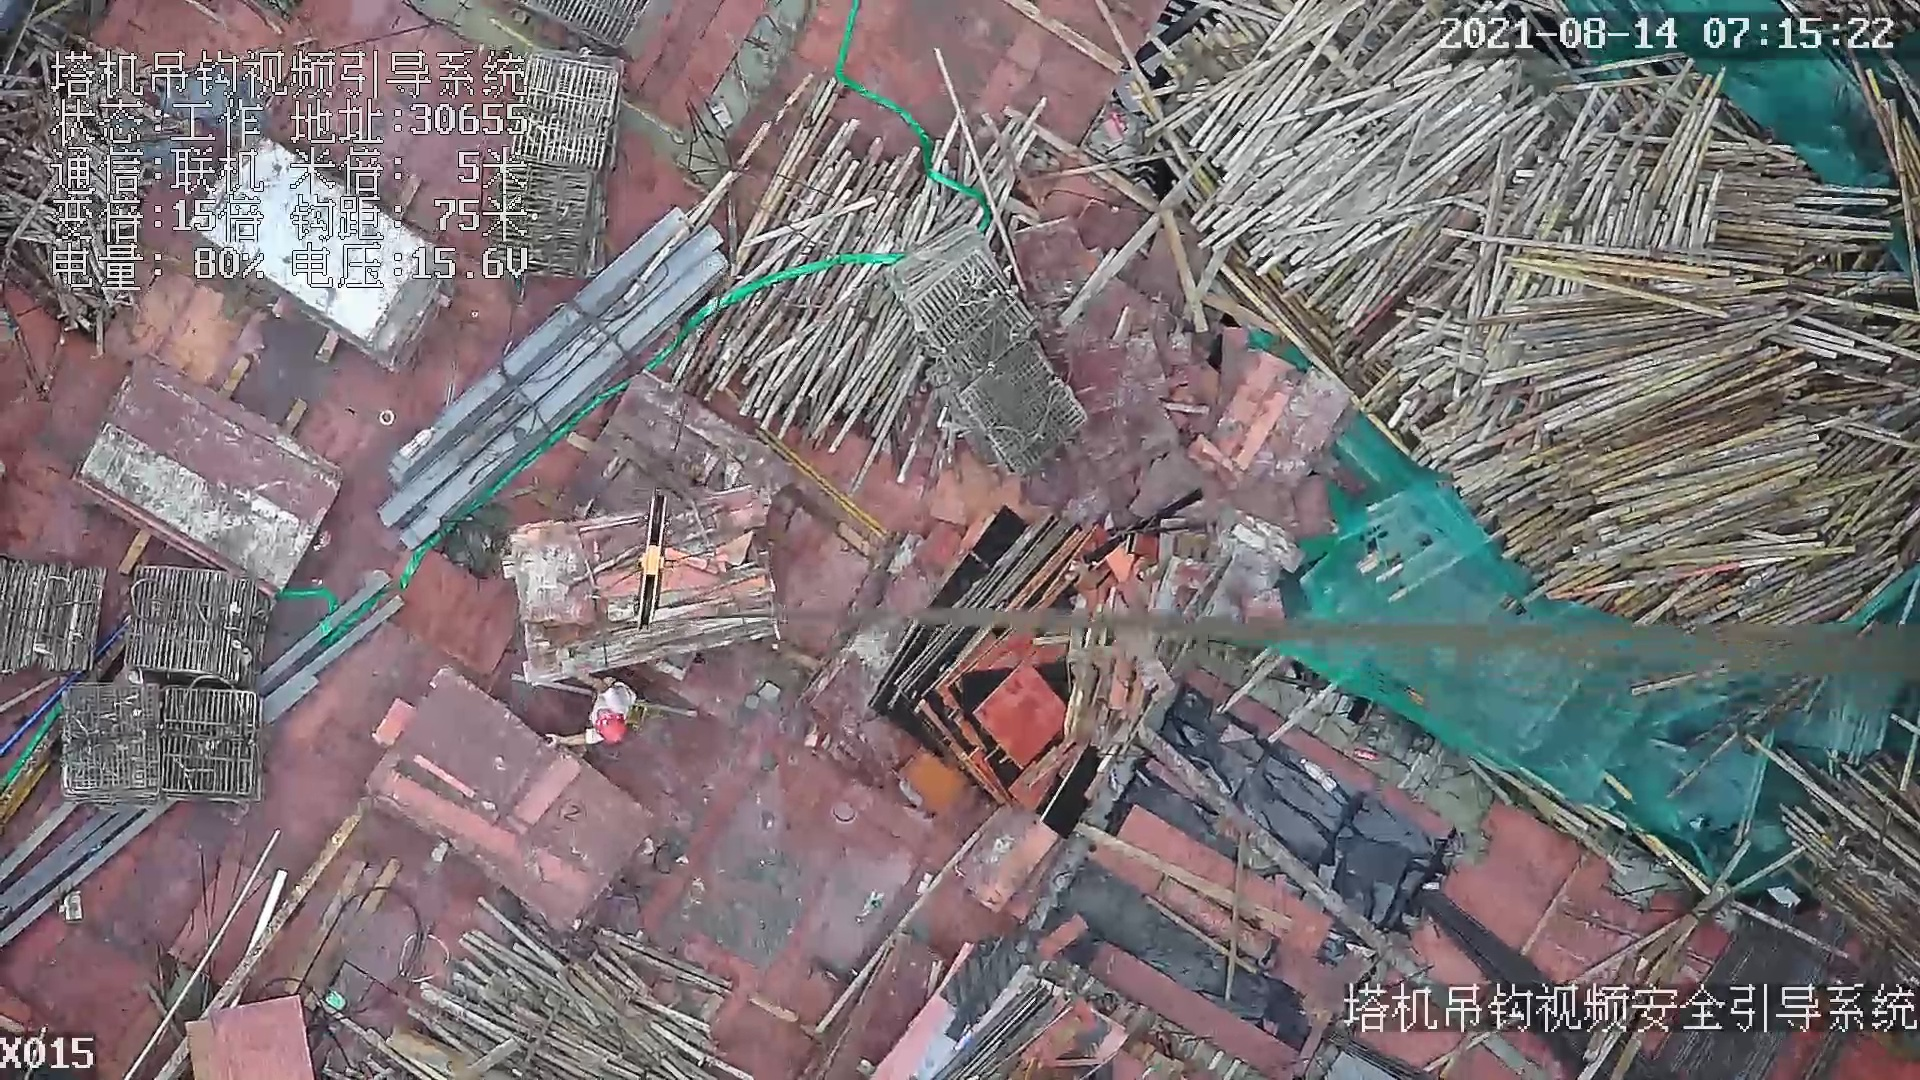helmet: (586, 709, 632, 743)
hook: (627, 487, 673, 635)
person: (546, 667, 641, 751)
